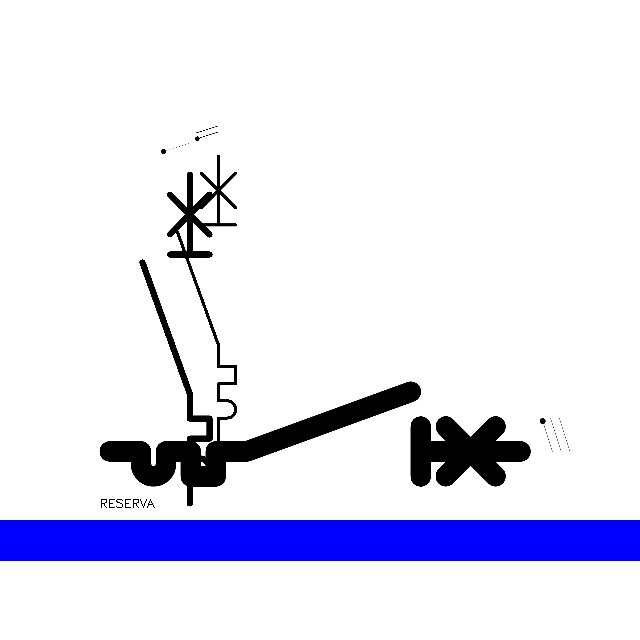interruptor_termomagnetico: (99, 381, 531, 487), (134, 166, 218, 512), (170, 148, 243, 446)
